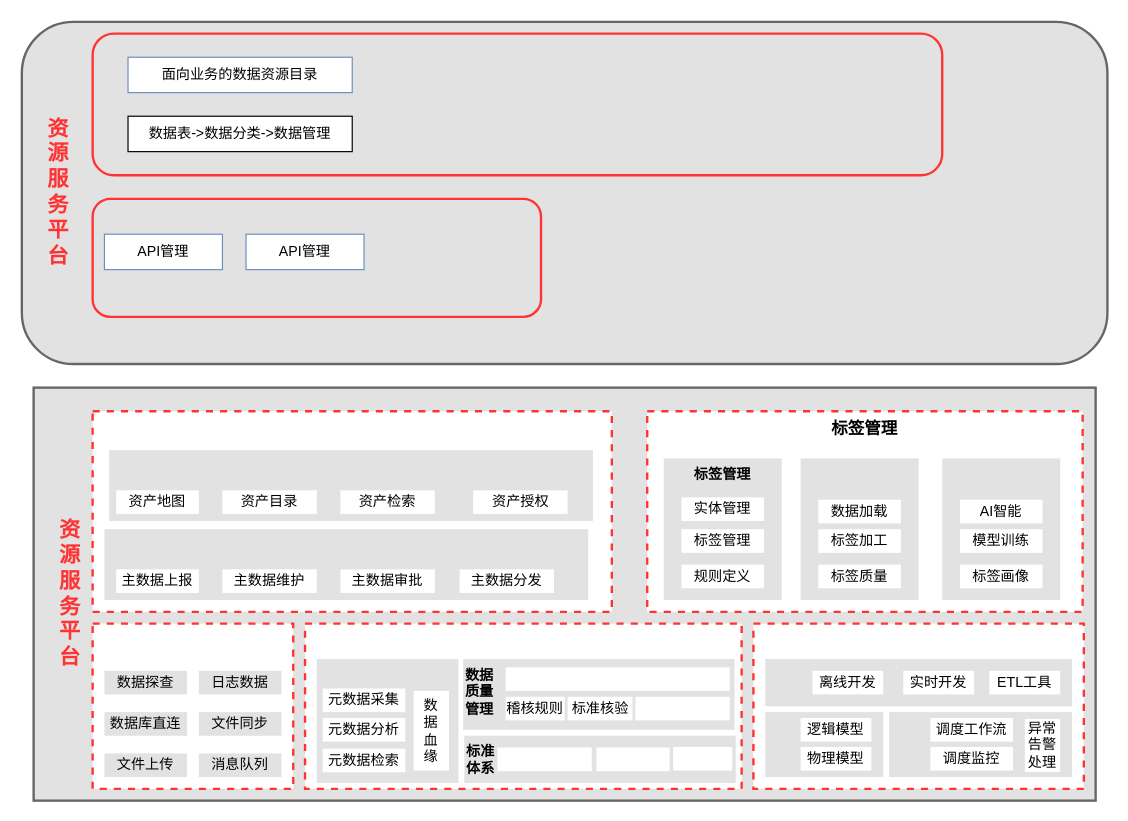
Some shapes in this 1128 by 821 pixel diagram are drawn without their labels. The shapes that lost their labels are listed below. From the top down, each one's box as (x1, y1, x2, y2) in pixels, then its label:
(91, 32, 943, 176): 资源目录管理
(91, 197, 542, 317): 数据API管理
(109, 450, 592, 520): 数据资产管理
(91, 409, 612, 612): 数据资产运营
(800, 458, 918, 599): 标签生产
(942, 458, 1060, 599): 标签应用
(104, 529, 588, 599): 主数据管理
(505, 667, 729, 690): 数据质量分析报告
(765, 658, 1071, 706): 数据 开发
(91, 622, 294, 789): 多源数据接入
(316, 658, 458, 782): 元数据管理
(303, 622, 742, 789): 统一标准数据治理体系
(635, 696, 729, 720): 稽核运行监控
(752, 622, 1084, 789): 全链路数据开发与管理
(497, 747, 591, 771): 数据管理规范
(596, 747, 669, 771): 元数据标准
(673, 746, 732, 770): 数据字典
(765, 712, 883, 776): 模型 开发
(889, 712, 1071, 776): 流程 调度
